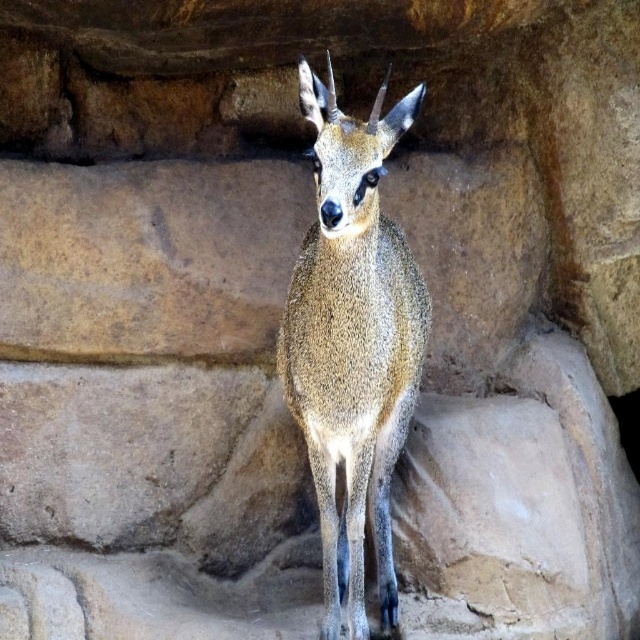Deer: (276, 44, 436, 639)
